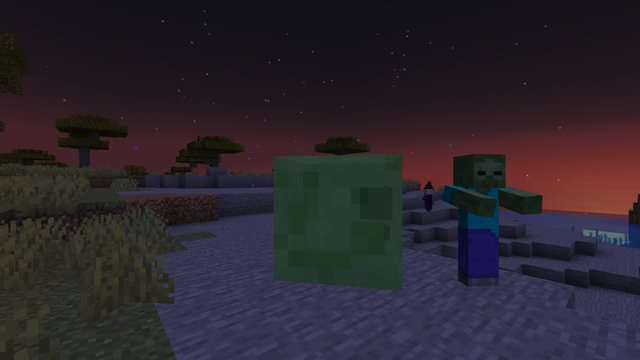slimes: (267, 145, 421, 299)
sorcieres: (425, 187, 432, 211)
zombies: (449, 156, 505, 294)
